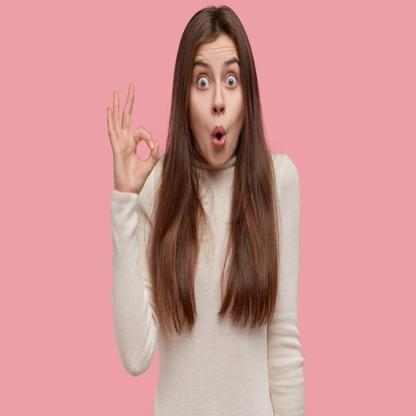ok: (102, 80, 162, 194)
